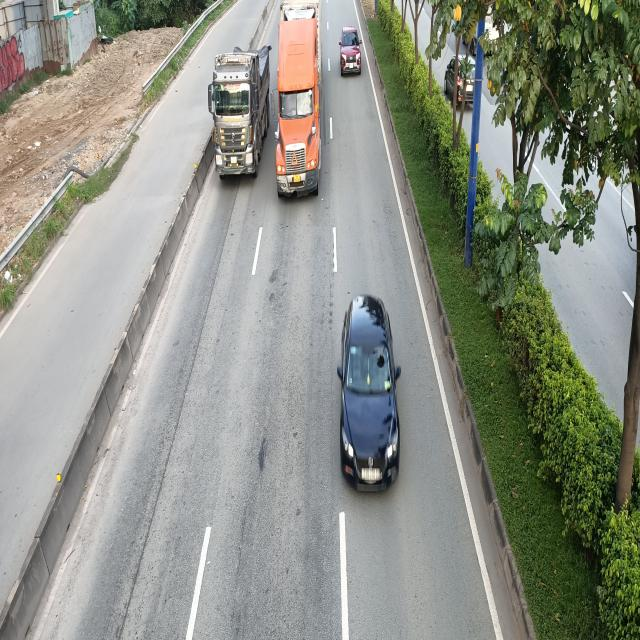car: (336, 294, 402, 491), (341, 28, 364, 78)
container: (274, 0, 322, 200), (206, 45, 272, 178)
